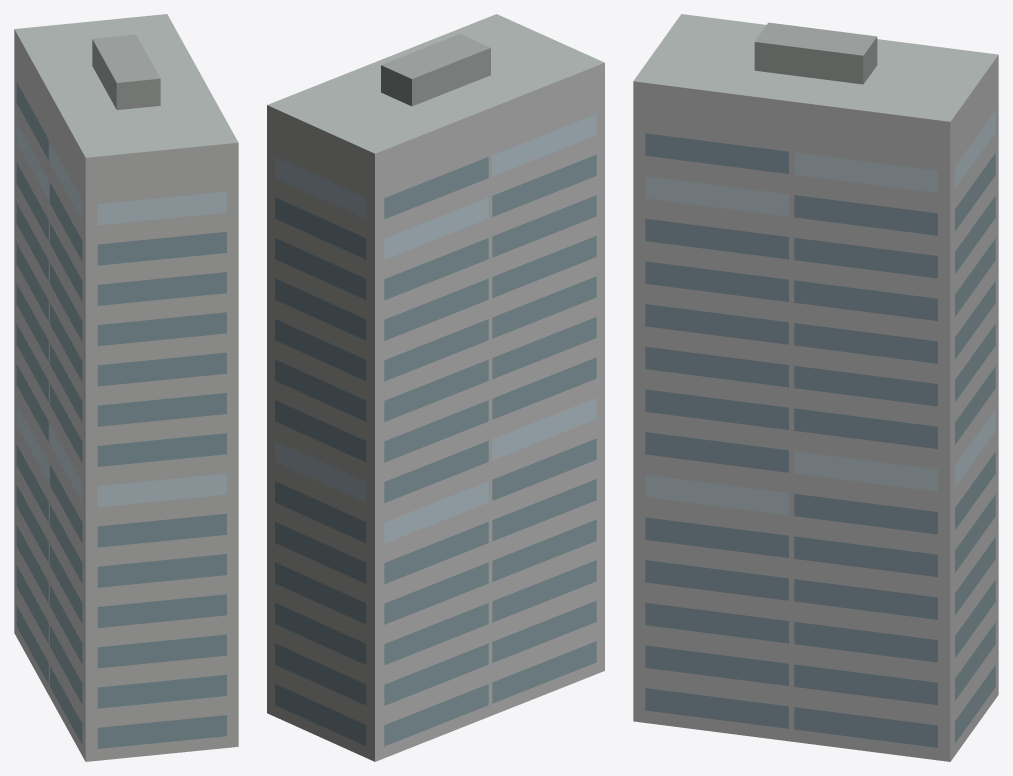
The model's file is fallback-olympic-park-foreon-429.glb.
3 views of the same model, side by side, from view 1: azimuth 30°, elevation 25°; view 2: azimuth 150°, elevation 25°; view 3: azimuth 270°, elevation 25° (orthographic). The views are drawn at different scales.
Parts seen in each view (by area): view 1: fallback-olympic-park-foreon-429; view 2: fallback-olympic-park-foreon-429; view 3: fallback-olympic-park-foreon-429.
Part boxes in pixels (x1=…): fallback-olympic-park-foreon-429: x1=14, y1=14, x2=238, y2=761; fallback-olympic-park-foreon-429: x1=267, y1=14, x2=604, y2=761; fallback-olympic-park-foreon-429: x1=633, y1=14, x2=998, y2=761.
Size of the model in its own units: 16.54 by 47.81 by 23.68.
